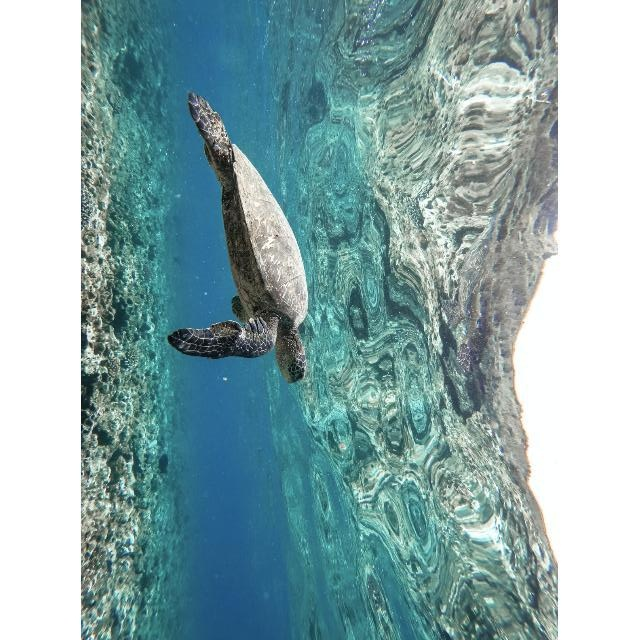turtle: (166, 89, 310, 383)
